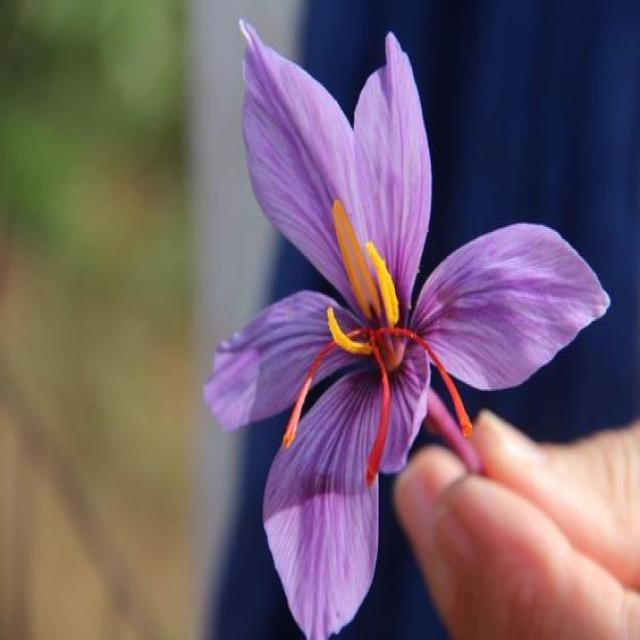Flower: (204, 23, 608, 639)
stigma: (367, 325, 479, 435), (278, 325, 368, 449), (361, 335, 393, 485)
